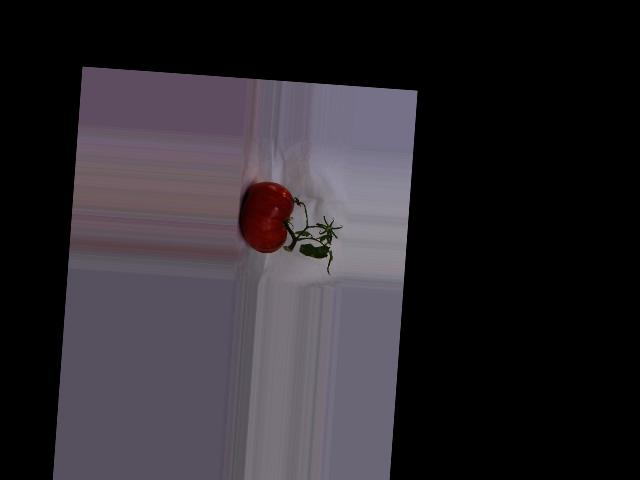tomato: (237, 179, 295, 254)
